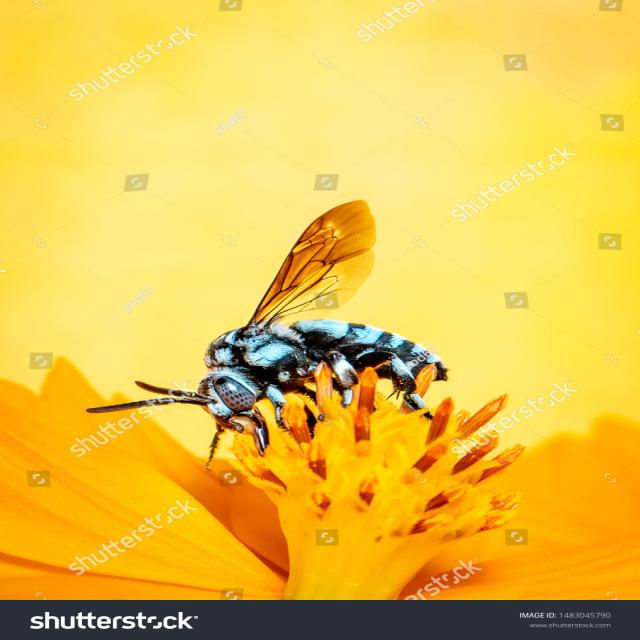Thyreus: (79, 197, 454, 477)
